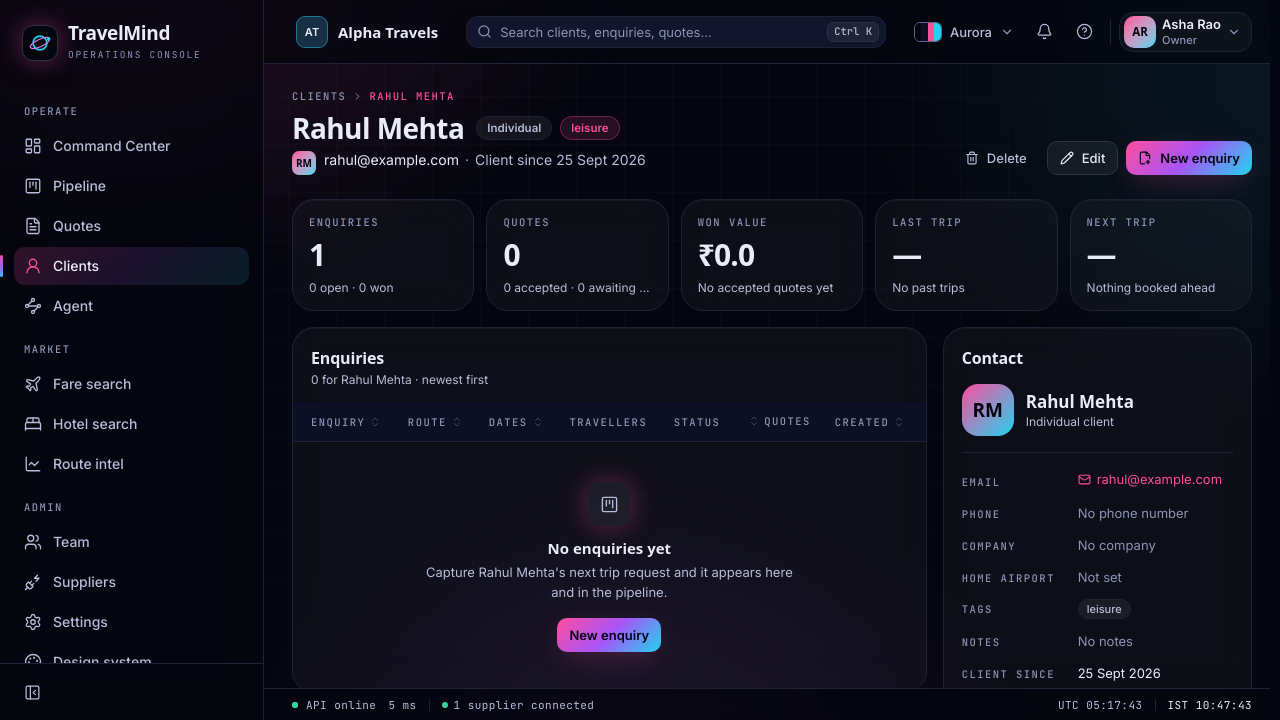
Delete removes a client without quotes and returns to the list
Click the button "Delete".
click(996, 158)  # box x1=953 y1=141 x2=1039 y2=175
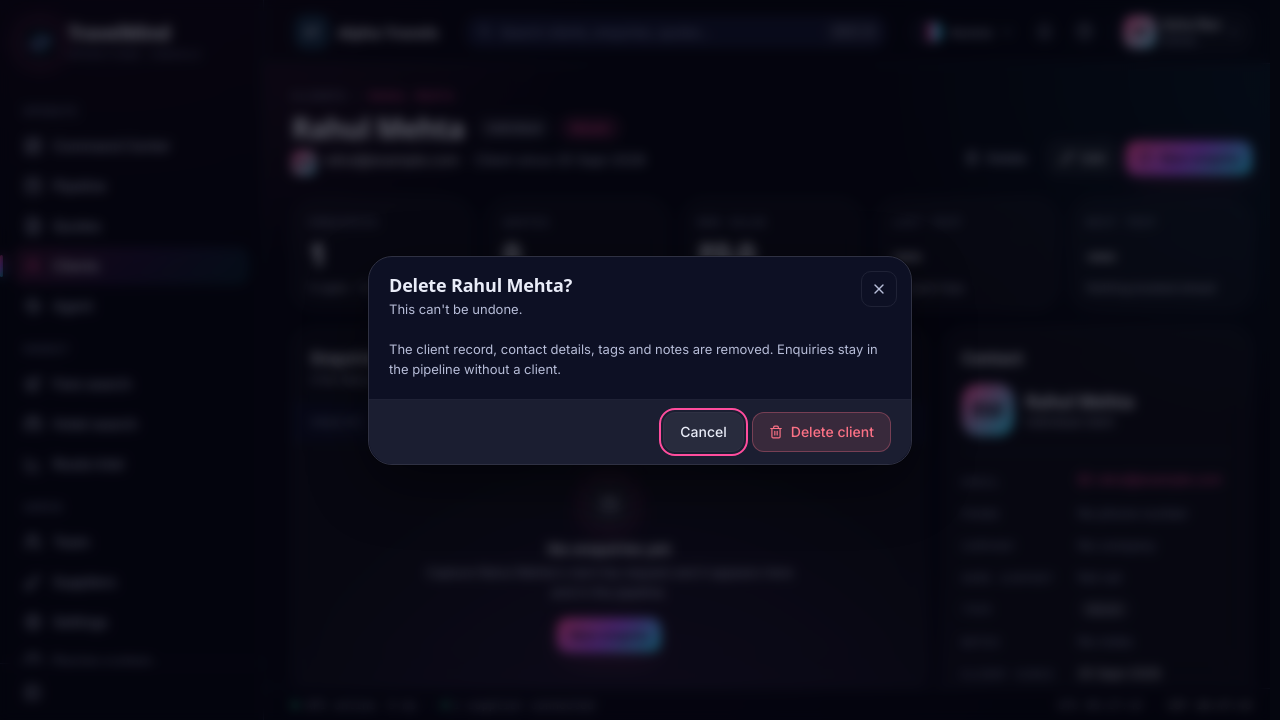
Click the button "Delete client".
click(821, 432)  # box x1=752 y1=412 x2=891 y2=452
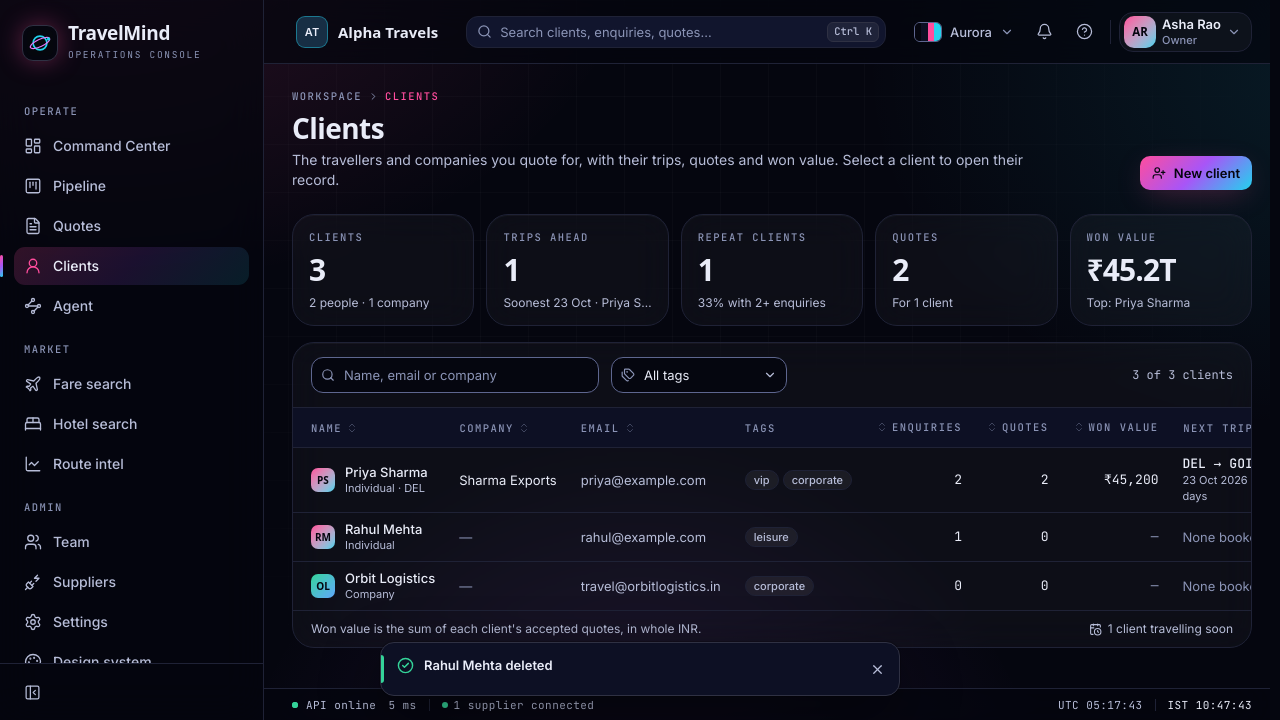
Now the text "Rahul Mehta deleted" is shown, box x1=424 y1=657 x2=553 y2=673
